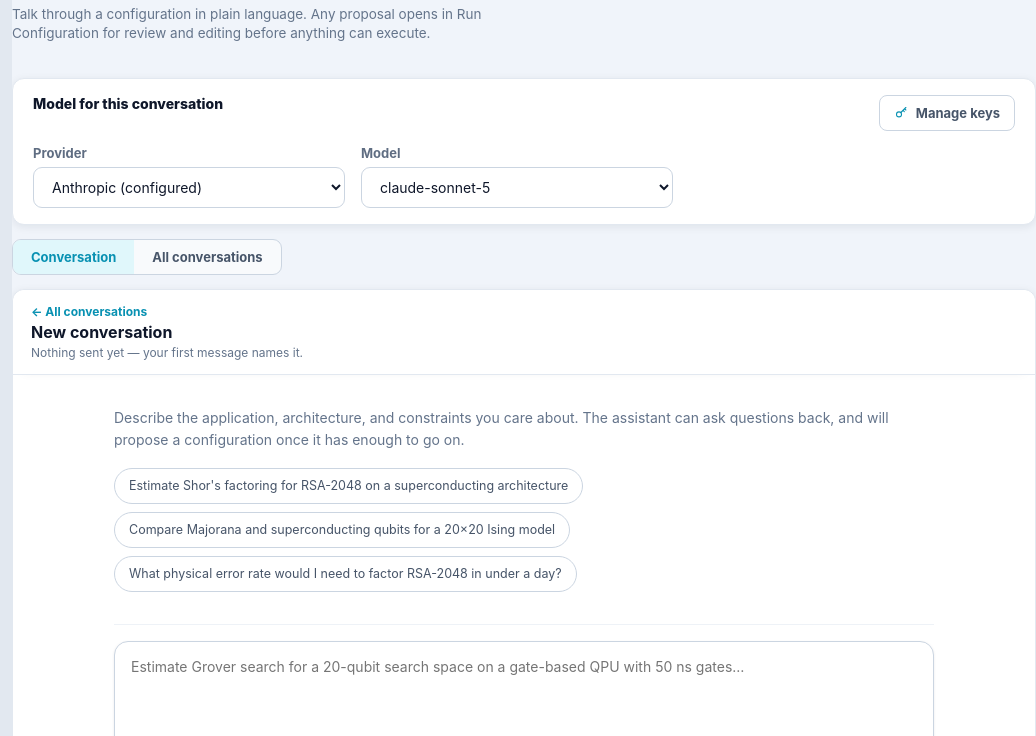
Scenario: ChatPage — a turn › shows the model's prose and its proposal, and stores both
The width and height of the screenshot is (1036, 736).
Type "Estimate Grover search" into the text box named "Your message" at (524,684), box left=115, top=642, right=933, bottom=726
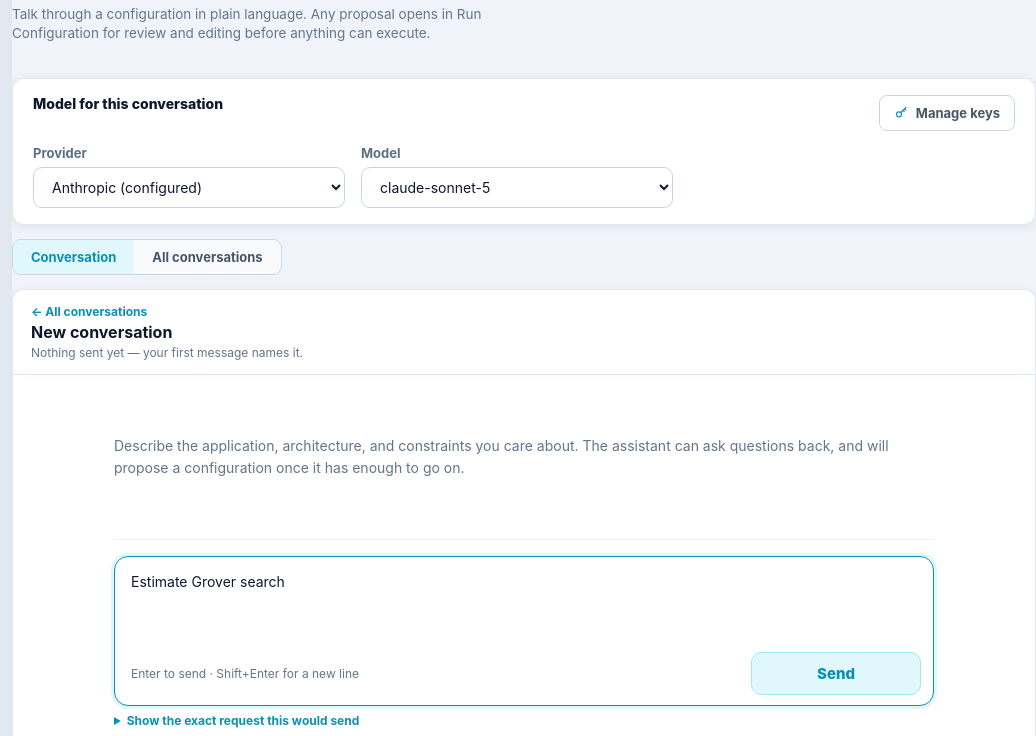
Click the button "Send" at (836,673), box left=751, top=652, right=921, bottom=695
(page scrolled)
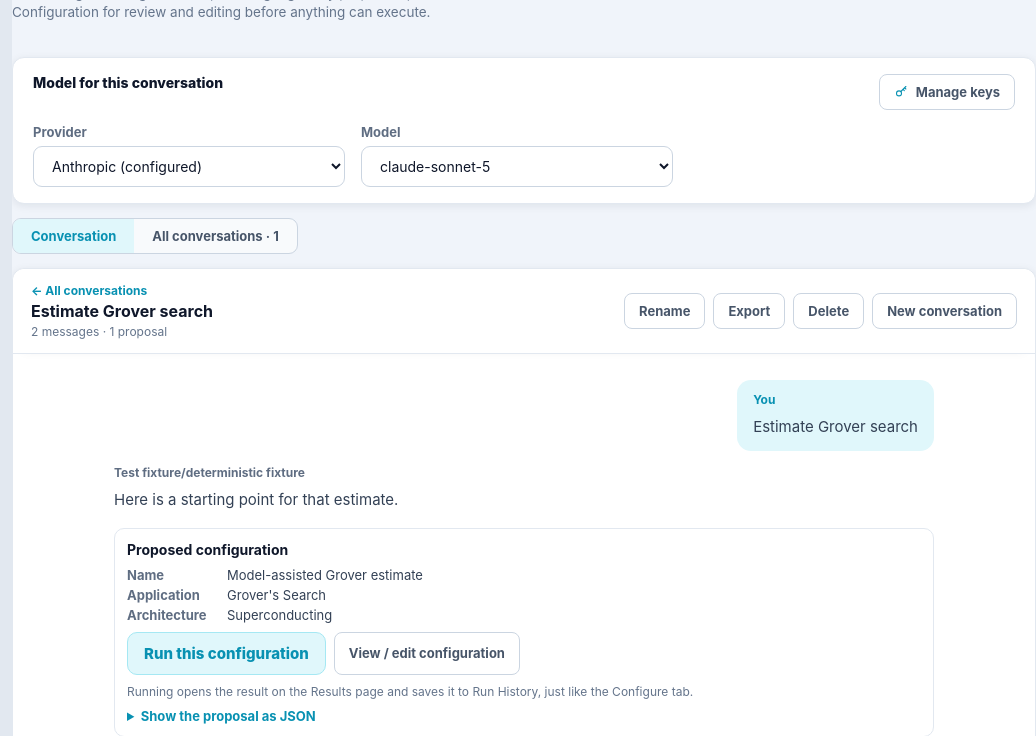
Expected: the text "Here is a starting point for that estimate." is shown, left=114, top=490, right=398, bottom=509
Expected: the text "Estimate Grover search" is shown, left=753, top=414, right=918, bottom=439
Expected: the button "Run this configuration" is shown, left=127, top=632, right=326, bottom=675
